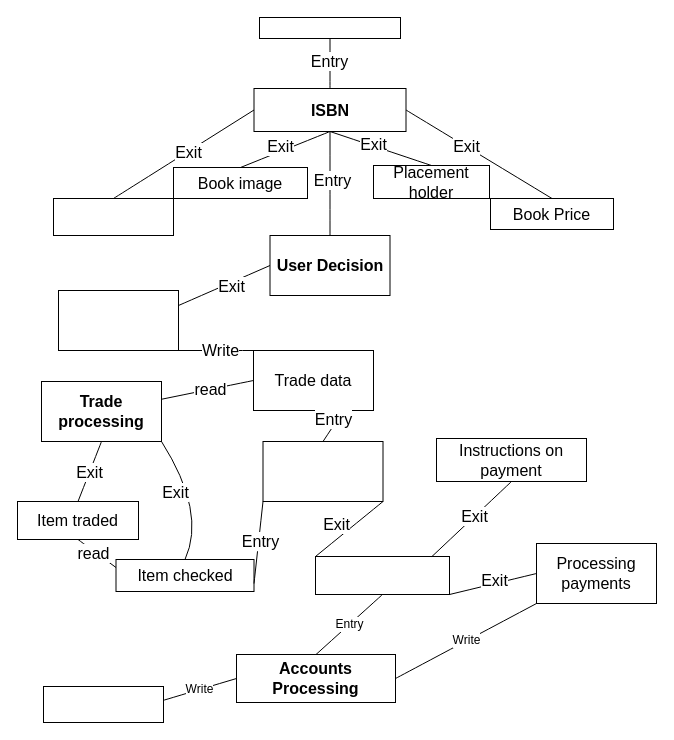
Image size: 674x740. Some labels were removed from this diagram. Here are the shapes that lost their labels. From the top down, the centre of each, then its label:
At (329,27): "User interaction".
At (113,217): "Information on Book".
At (118,320): "Add item".
At (322,471): "Warehouse Processing".
At (382,575): "completed trade".
At (103,704): "New accounts".
